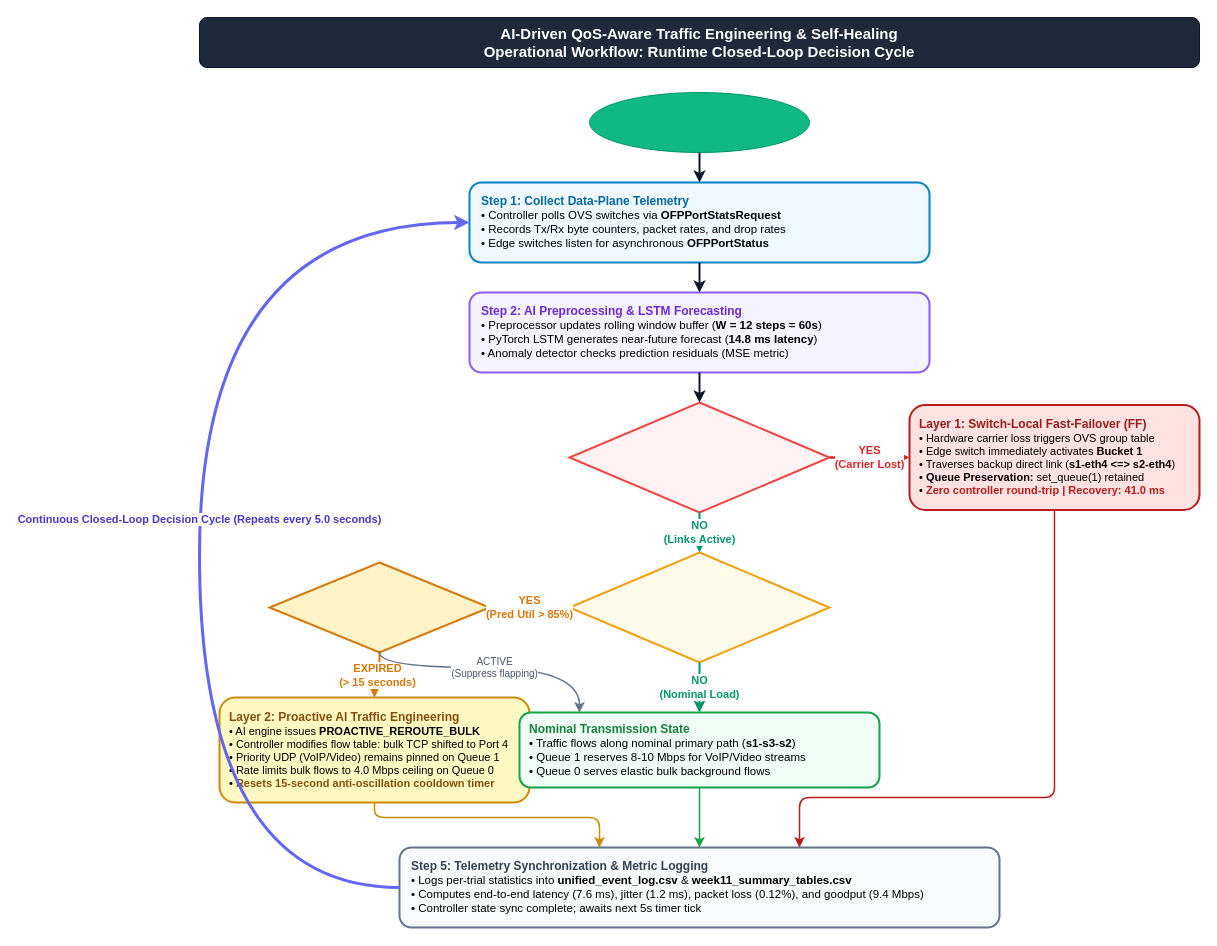
Some shapes in this 1217 by 946 pixel diagram are drawn without their labels. The shapes that lost their labels are listed below. From the top down, each one's centre as x and y in pixels, then its label:
At point 699,122: "START MONITORING (5s Telemetry Interval)".
At point 699,457: "Hard Physical Link Down / Carrier Loss Detected?".
At point 379,607: "Is 15s Cooldown Timer Active? (Anti-Route Flapping)".
At point 699,607: "LSTM Forecast: Link Congestion Predicted? (Predicted Util > 85%)".
